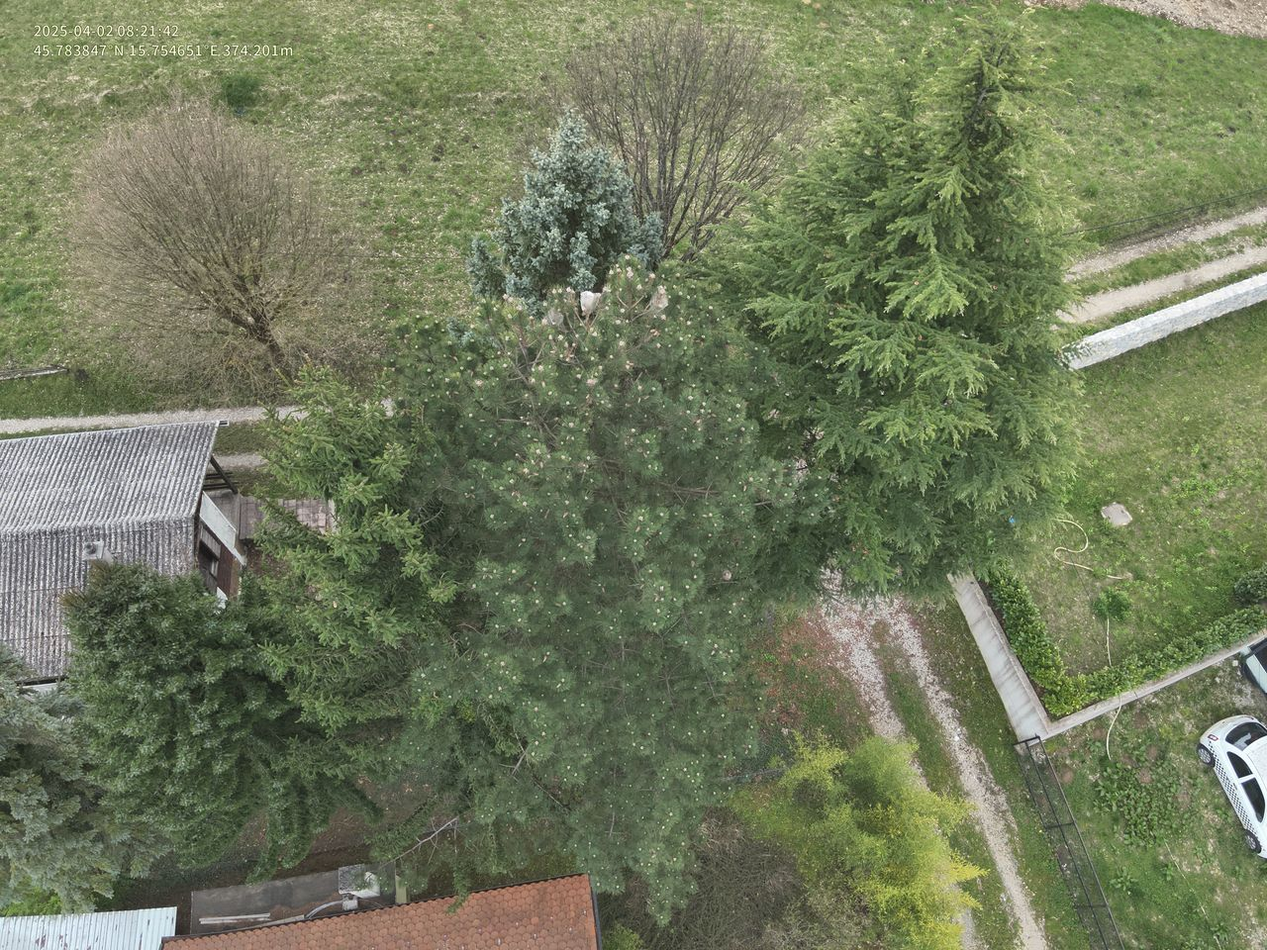thaumatopoea pityocampa jajno gnijezdo: (645, 287, 670, 310), (580, 289, 599, 318), (380, 397, 400, 420)
